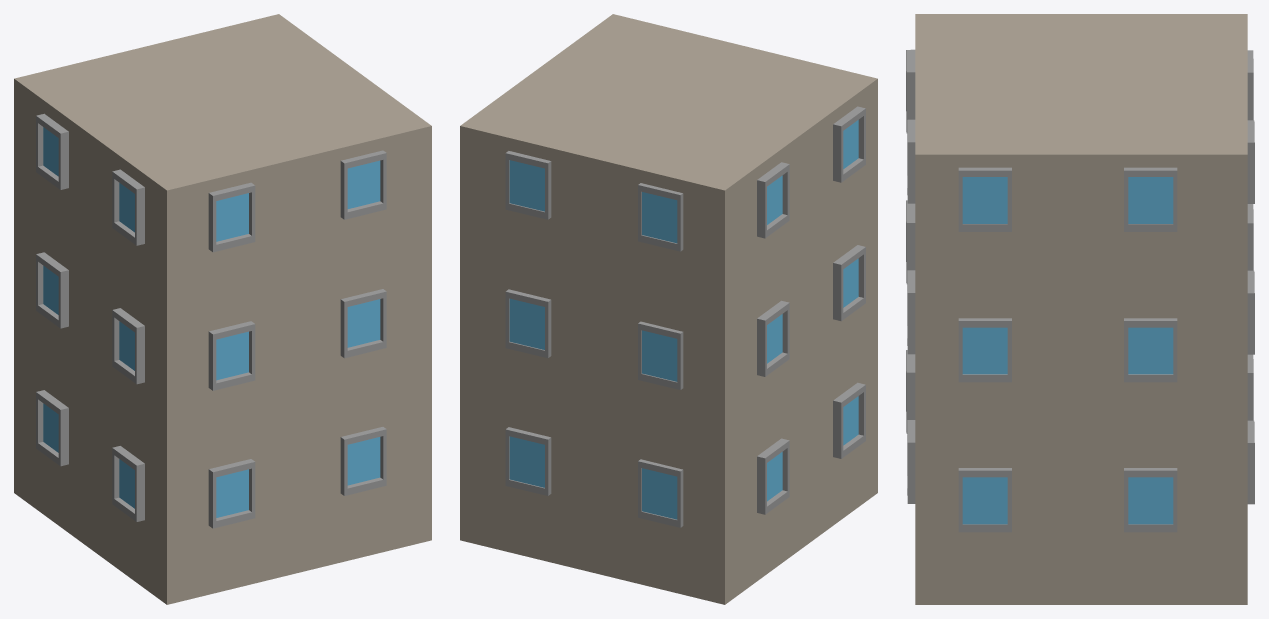
Rendered from House3.fbx.
The picture shows the model from 3 angles, left to right: view 1: azimuth 30°, elevation 25°; view 2: azimuth 150°, elevation 25°; view 3: azimuth 270°, elevation 25°; orthographic projection. The views are drawn at different scales.
Visible parts, largest first — view 1: Cube.034, Cube.017, Cube, Cube.005, Cube.024, Cube.041, Cube.003, Cube.022, Cube.001, Cube.020, Cube.037, Cube.039 (+15 smaller); view 2: Cube.034, Cube, Cube.017, Cube.010, Cube.029, Cube.008, Cube.044, Cube.027, Cube.046, Cube.015, Cube.018, Cube.035 (+15 smaller); view 3: Cube.034, Cube, Cube.017, Cube.012, Cube.014, Cube.031, Cube.033, Cube.048, Cube.050, Cube.011, Cube.013, Cube.030 (+15 smaller).
Boxes of the visible parts, left/top/right/bottom form: Cube.034: left=14, top=14, right=431, bottom=328; Cube.017: left=14, top=217, right=431, bottom=467; Cube: left=14, top=354, right=431, bottom=604; Cube.005: left=208, top=459, right=255, bottom=528; Cube.024: left=208, top=321, right=255, bottom=390; Cube.041: left=208, top=182, right=255, bottom=252; Cube.003: left=340, top=427, right=386, bottom=495; Cube.022: left=340, top=289, right=386, bottom=358; Cube.001: left=36, top=390, right=68, bottom=466; Cube.020: left=36, top=252, right=68, bottom=328; Cube.037: left=36, top=113, right=68, bottom=189; Cube.039: left=340, top=150, right=386, bottom=219; Cube.034: left=460, top=14, right=877, bottom=328; Cube: left=460, top=354, right=877, bottom=604; Cube.017: left=460, top=217, right=877, bottom=466; Cube.010: left=642, top=468, right=677, bottom=519; Cube.029: left=642, top=330, right=677, bottom=381; Cube.008: left=509, top=436, right=544, bottom=487; Cube.044: left=509, top=160, right=544, bottom=211; Cube.027: left=509, top=298, right=544, bottom=349; Cube.046: left=642, top=192, right=677, bottom=243; Cube.015: left=833, top=382, right=865, bottom=458; Cube.018: left=833, top=245, right=865, bottom=321; Cube.035: left=833, top=106, right=865, bottom=182; Cube.034: left=915, top=14, right=1247, bottom=304; Cube: left=915, top=454, right=1247, bottom=604; Cube.017: left=915, top=305, right=1247, bottom=455; Cube.012: left=962, top=477, right=1007, bottom=524; Cube.014: left=1128, top=477, right=1173, bottom=524; Cube.031: left=962, top=327, right=1007, bottom=374; Cube.033: left=1128, top=327, right=1173, bottom=374; Cube.048: left=962, top=177, right=1007, bottom=223; Cube.050: left=1128, top=177, right=1173, bottom=223; Cube.011: left=958, top=468, right=1011, bottom=532; Cube.013: left=1124, top=468, right=1177, bottom=532; Cube.030: left=958, top=318, right=1011, bottom=382.
Bounding box in the file's own units: 211 × 299 × 210.
